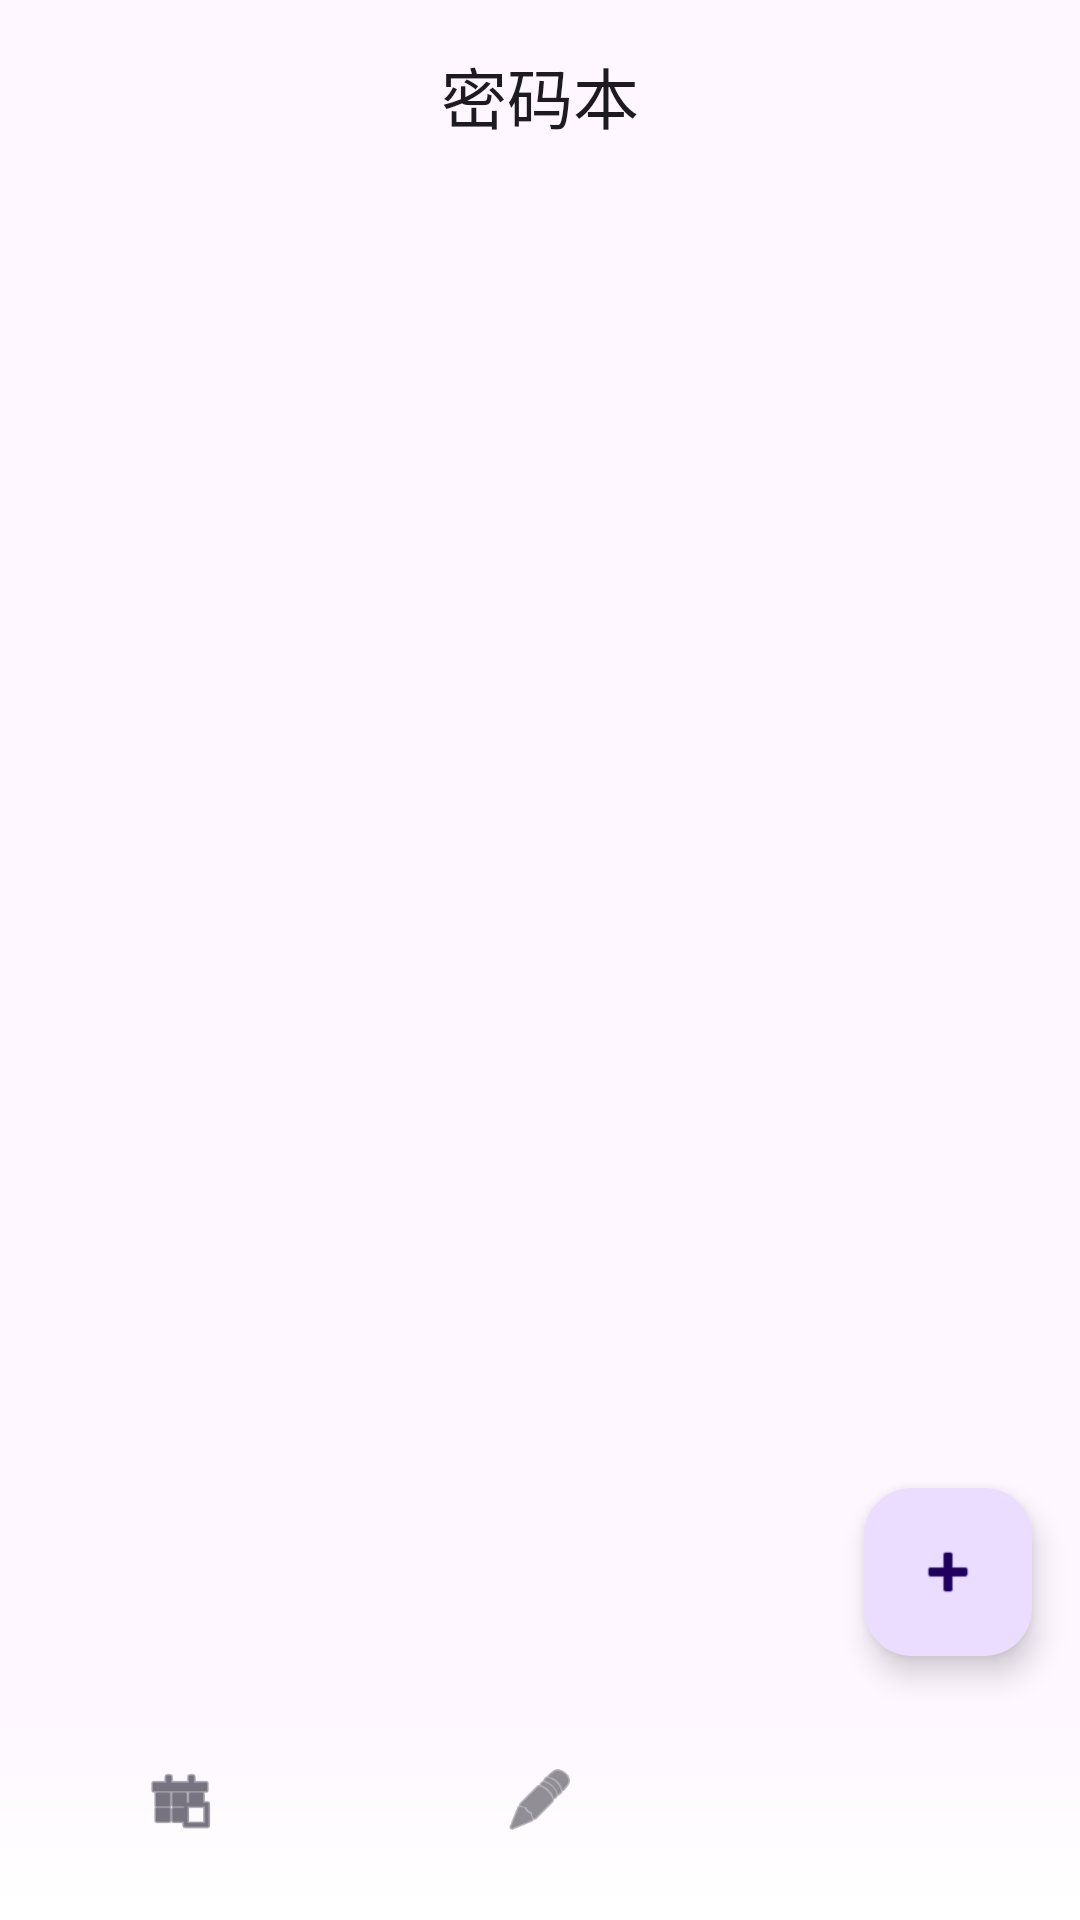

Screen size 1080x1920. Icon name, then its center in pixels as (x=x, y=y):
add: (x=948, y=1572)
